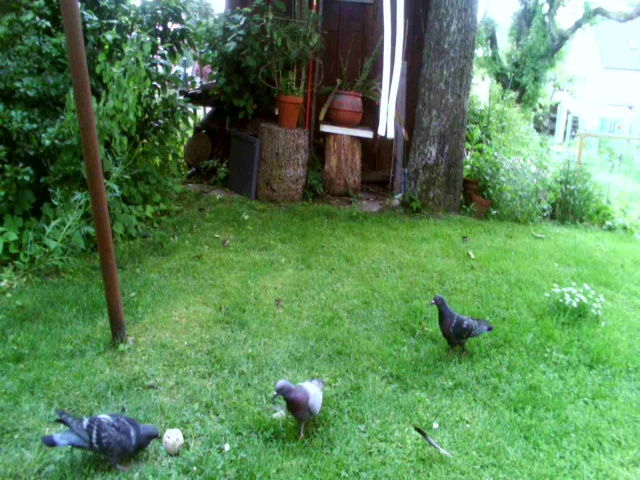Pigeon: (34, 397, 163, 474), (260, 370, 336, 447), (429, 290, 501, 363)
